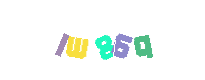6: (64, 0, 144, 80)
8: (63, 0, 143, 80)
L: (36, 0, 116, 80)
Q: (103, 0, 183, 80)
W: (62, 0, 142, 80)
